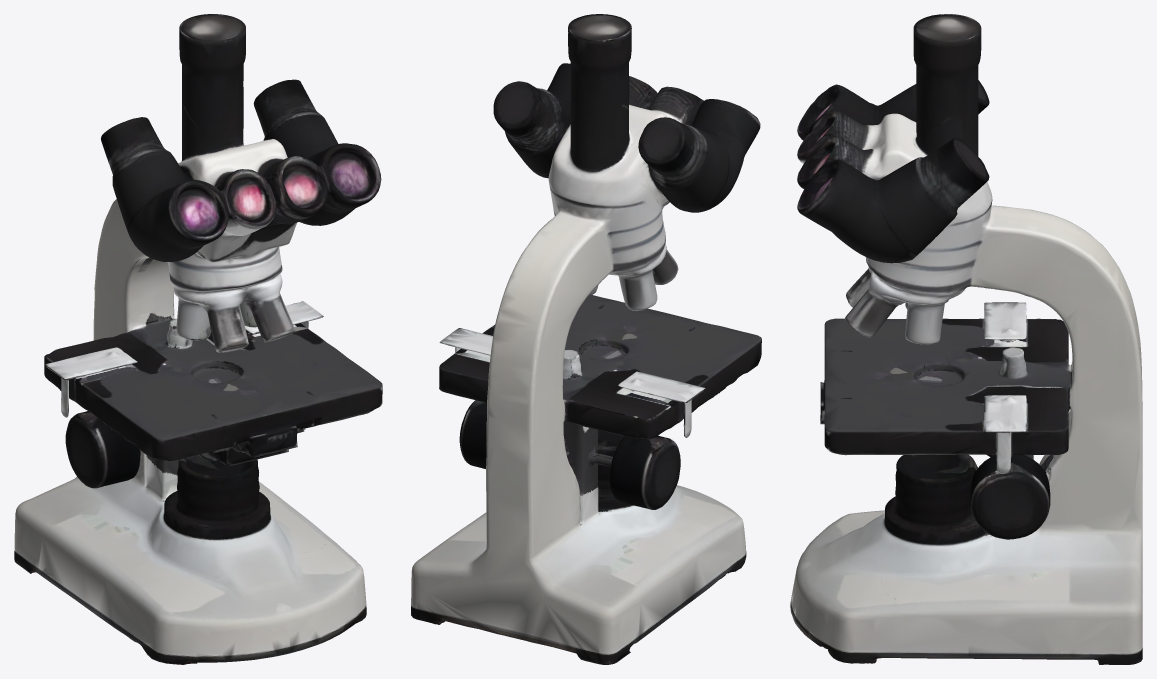
The model's file is vet_equip_microscope.glb.
3 views of the same model, side by side, from view 1: azimuth 30°, elevation 25°; view 2: azimuth 150°, elevation 25°; view 3: azimuth 270°, elevation 25° (orthographic). The views are drawn at different scales.
Parts seen in each view (by area): view 1: model; view 2: model; view 3: model.
Part boxes in pixels (x1=…): model: x1=14, y1=14, x2=382, y2=664; model: x1=411, y1=14, x2=761, y2=664; model: x1=790, y1=14, x2=1142, y2=664.
Bounding box in the file's own units: 0.8982 × 1.9 × 1.04.
1 material, 1 textured.
